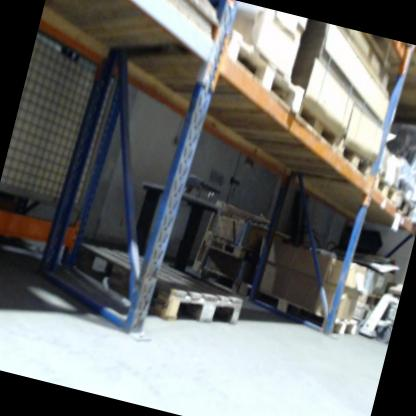pallet: (65, 231, 251, 337), (211, 28, 315, 114), (246, 281, 363, 342), (289, 99, 349, 155), (203, 231, 262, 264), (333, 140, 377, 180), (368, 169, 402, 203), (389, 189, 416, 222), (358, 288, 385, 312)
pallet_truck: (352, 283, 401, 344)
stillage: (0, 34, 126, 232)
